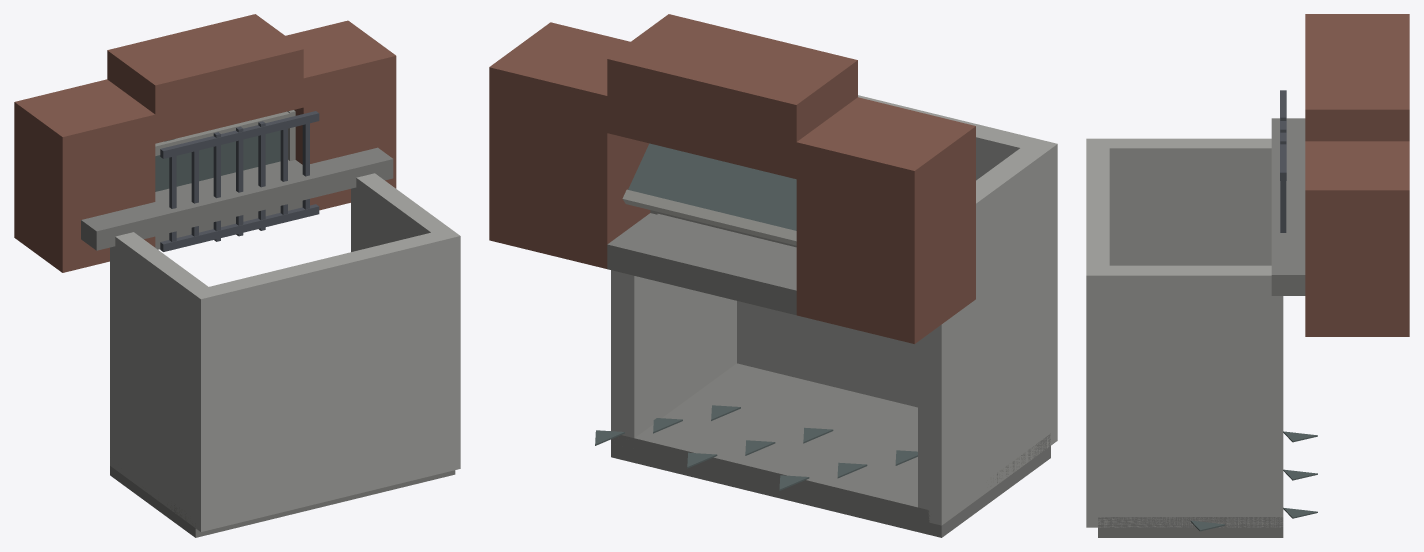
Rendered from basement_window.glb.
3 renders of one model, left to right at view 1: azimuth 30°, elevation 25°; view 2: azimuth 150°, elevation 25°; view 3: azimuth 270°, elevation 25°, orthographic. The views are drawn at different scales.
Parts seen in each view (by area): view 1: wall_mesh, glass, bar_h.002, bar_h.003, frame_mesh; view 2: wall_mesh, glass.001, sash_bar; view 3: wall_mesh, bar_h.002.
Part boxes in pixels (box(x1,y1,x2,y2)): wall_mesh: box(14, 14, 460, 537); glass: box(155, 130, 280, 191); bar_h.002: box(160, 111, 319, 158); bar_h.003: box(160, 204, 319, 251); frame_mesh: box(155, 110, 295, 160); wall_mesh: box(489, 14, 1057, 537); glass.001: box(628, 143, 796, 230); sash_bar: box(622, 189, 796, 245); wall_mesh: box(1086, 14, 1409, 537); bar_h.002: box(1280, 90, 1286, 180).
Size of what is drawn, in the model's own units: 1.8 by 1.9 by 1.39.
